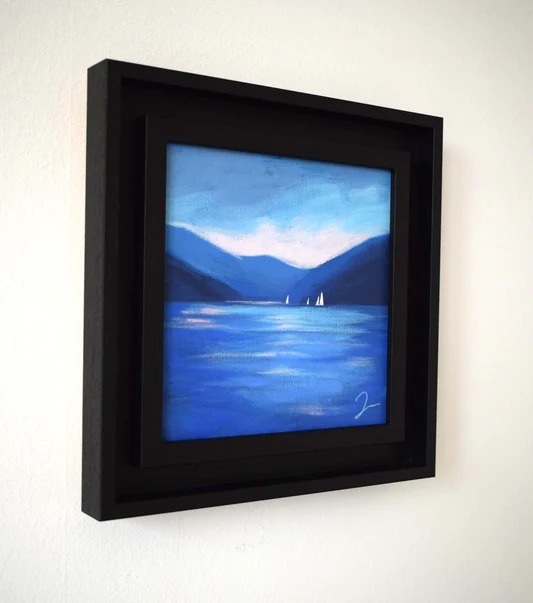painting: (163, 143, 390, 442)
